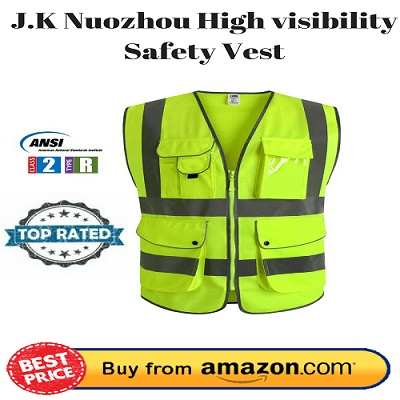safety vest: (123, 90, 341, 315)
